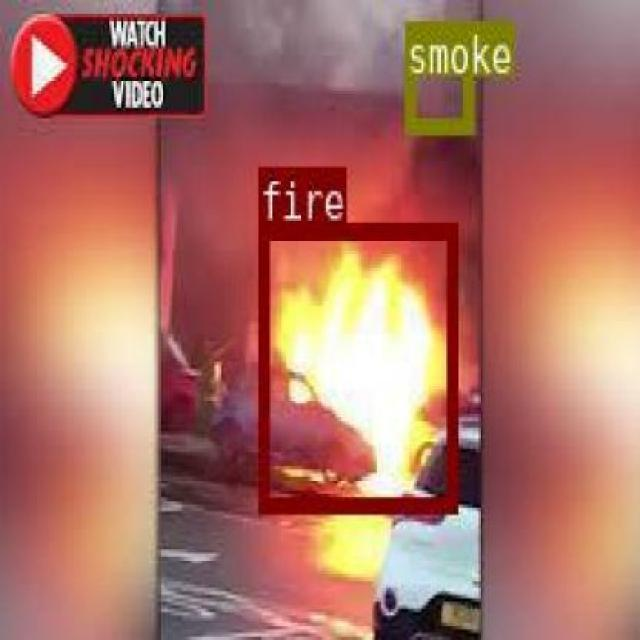Fire: (256, 221, 456, 510)
Smoke: (403, 18, 471, 130)
